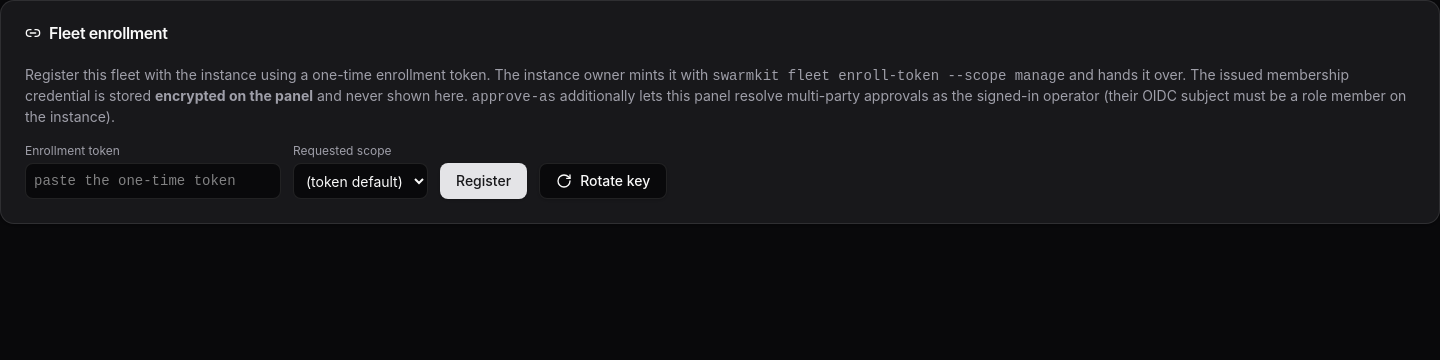
it: EnrollmentPanel › registers with the entered token + requested scope and shows the result
The image size is (1440, 360).
Type "join-code-xyz" into the field labelled "Enrollment token". click: (153, 181)
box: [25, 163, 281, 199]
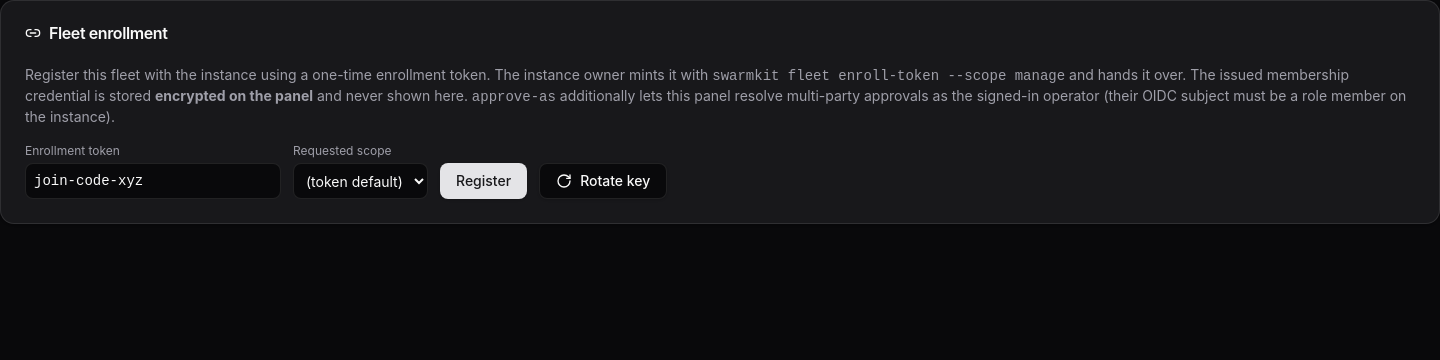
Select "manage" in the dropdown labelled "Requested scope". click: (360, 181)
box: [293, 163, 428, 199]
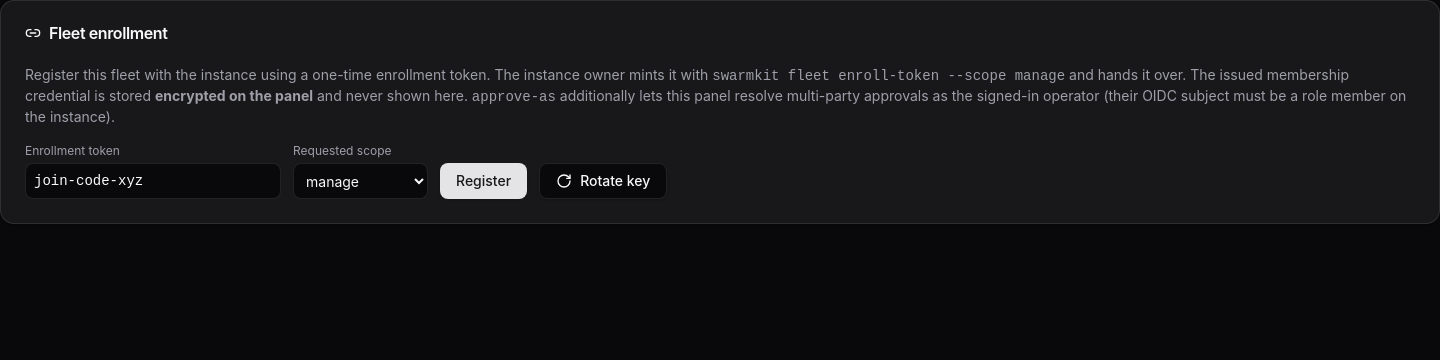
Click the button "Register". click: (484, 181)
box: [440, 163, 527, 199]
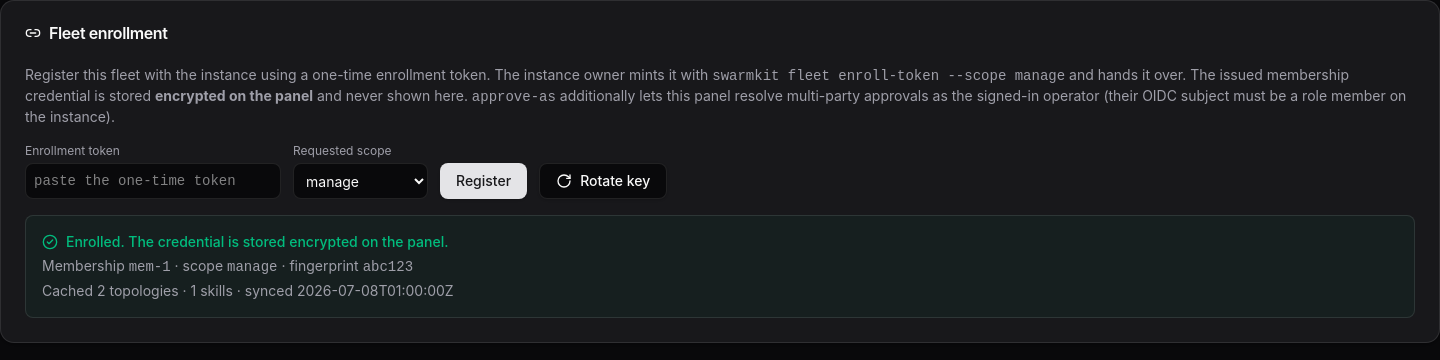
Now the text "Enrolled. The credential is stored encrypted on the panel." is shown, box [42, 233, 448, 250]
Now the text "mem-1" is shown, box [129, 259, 171, 275]
Now the text "Cached 2 topologies · 1 skills · synced 2026-07-08T01:00:00Z" is shown, box [42, 282, 454, 299]
